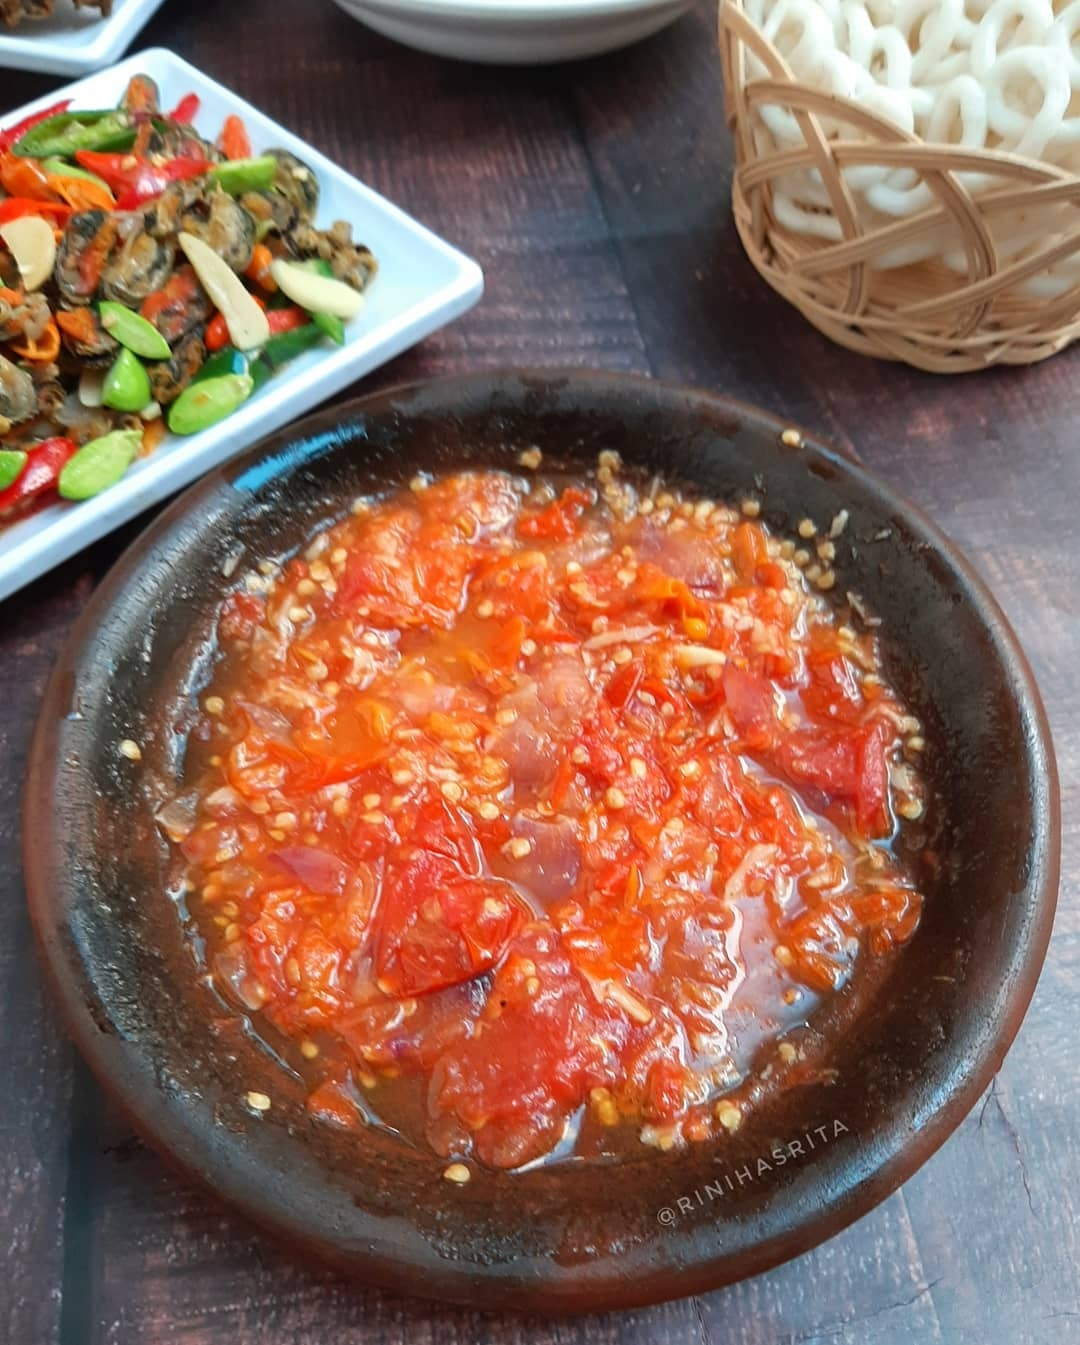sambal: (168, 477, 924, 1167)
